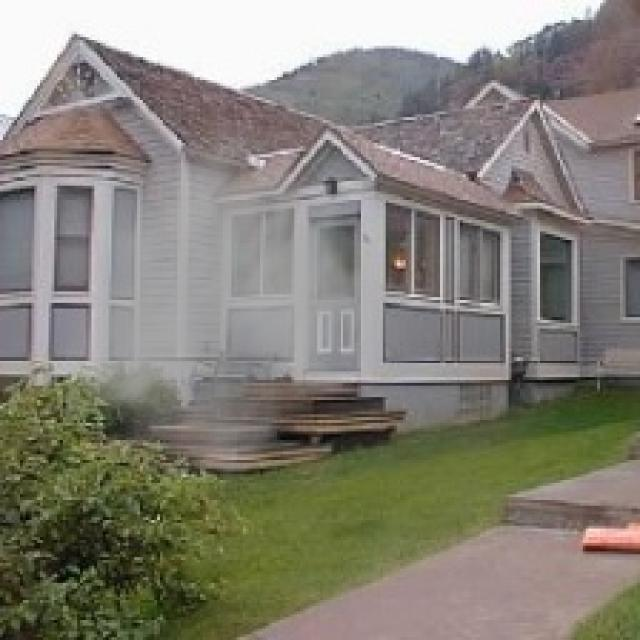smoke: (66, 109, 423, 500)
